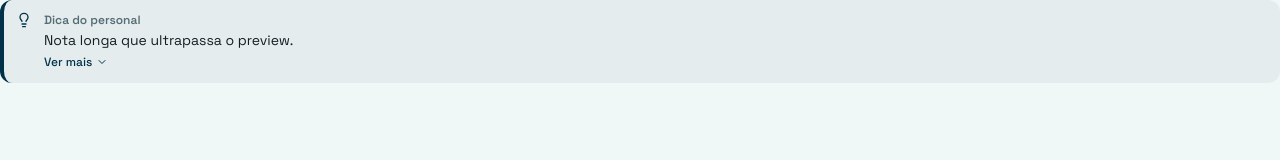
Test: CollapsibleNote › toggles between 'Ver mais' and 'Ver menos' when the note overflows the preview
Click the button "Ver mais" at [76, 62], box left=44, top=54, right=108, bottom=70
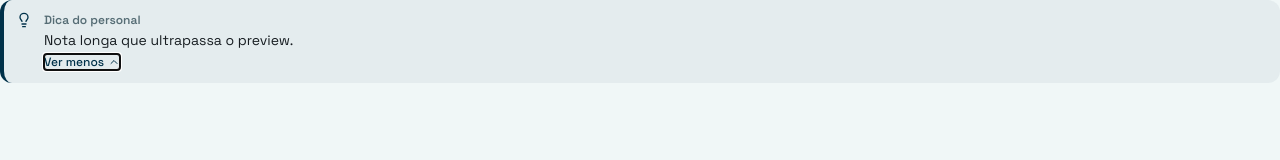
expect the button "Ver menos" is expanded: met, box left=44, top=54, right=120, bottom=70
